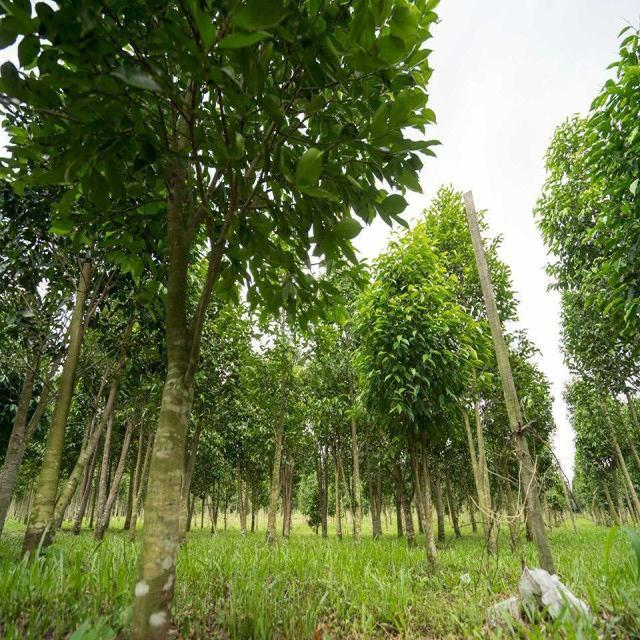Medicinal-Sandalwood: (10, 0, 448, 592)
